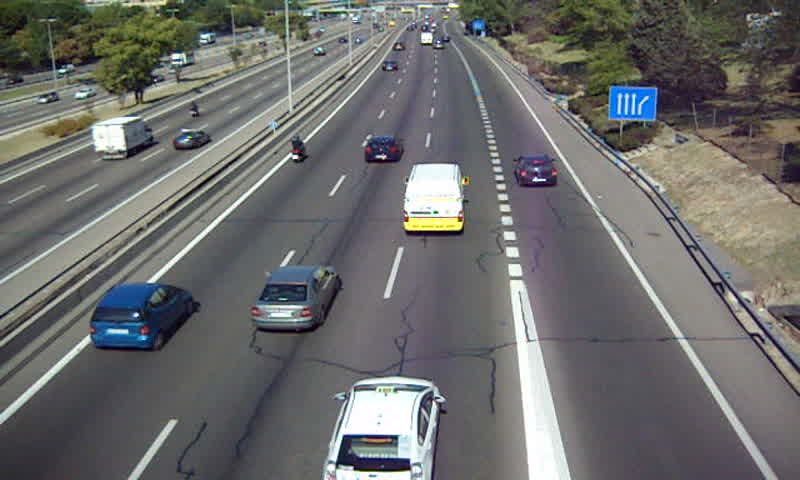car: (325, 375, 440, 480), (90, 282, 193, 351), (249, 264, 341, 331), (514, 154, 560, 187), (362, 135, 405, 165), (380, 60, 399, 74)
motorcycle: (288, 134, 306, 165)
van: (403, 163, 465, 233)
